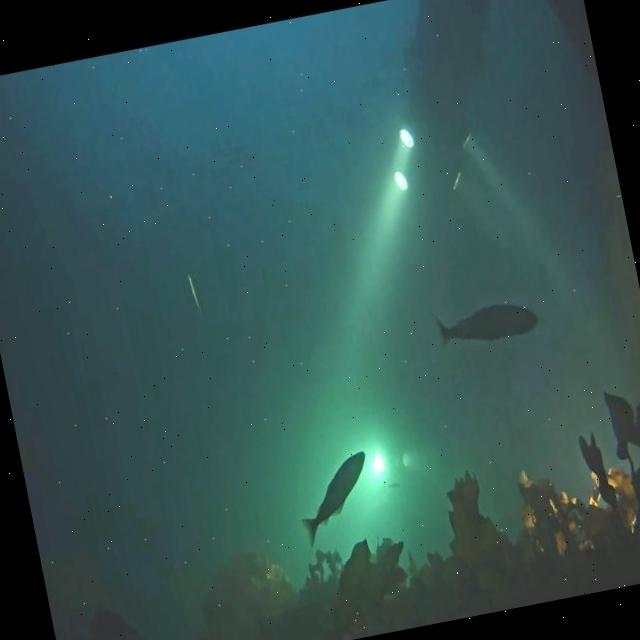fish: (290, 452, 380, 549), (432, 296, 540, 351), (183, 272, 204, 320)
